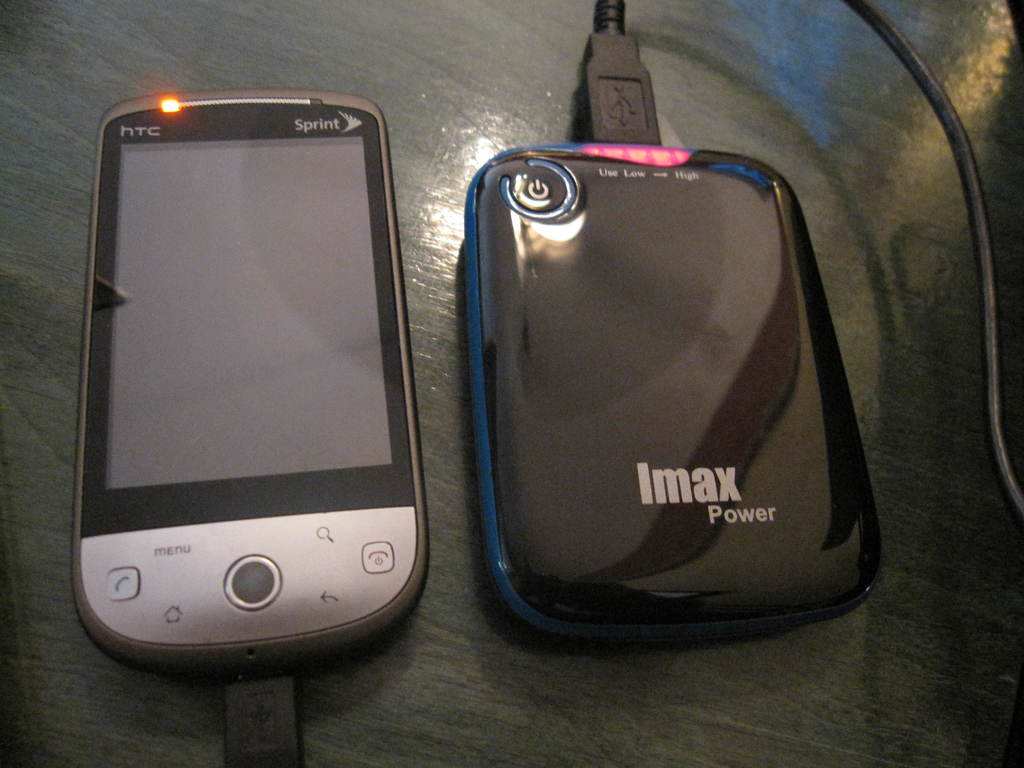mobile phone: (51, 85, 458, 682)
